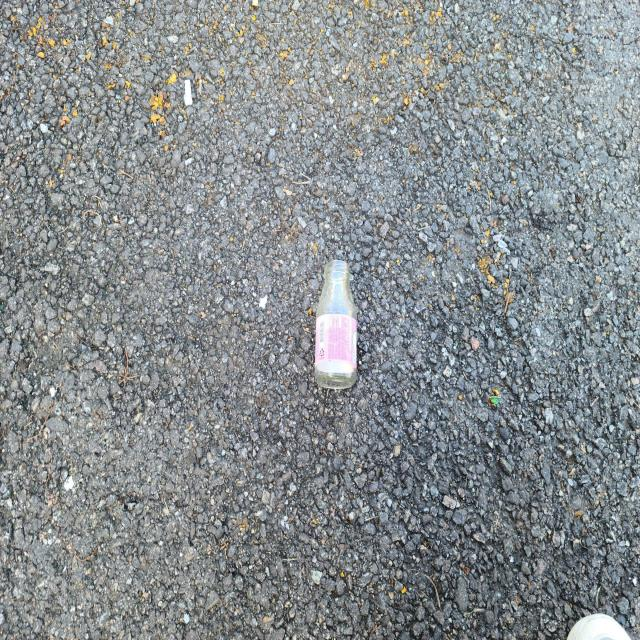glass: (315, 260, 357, 389)
